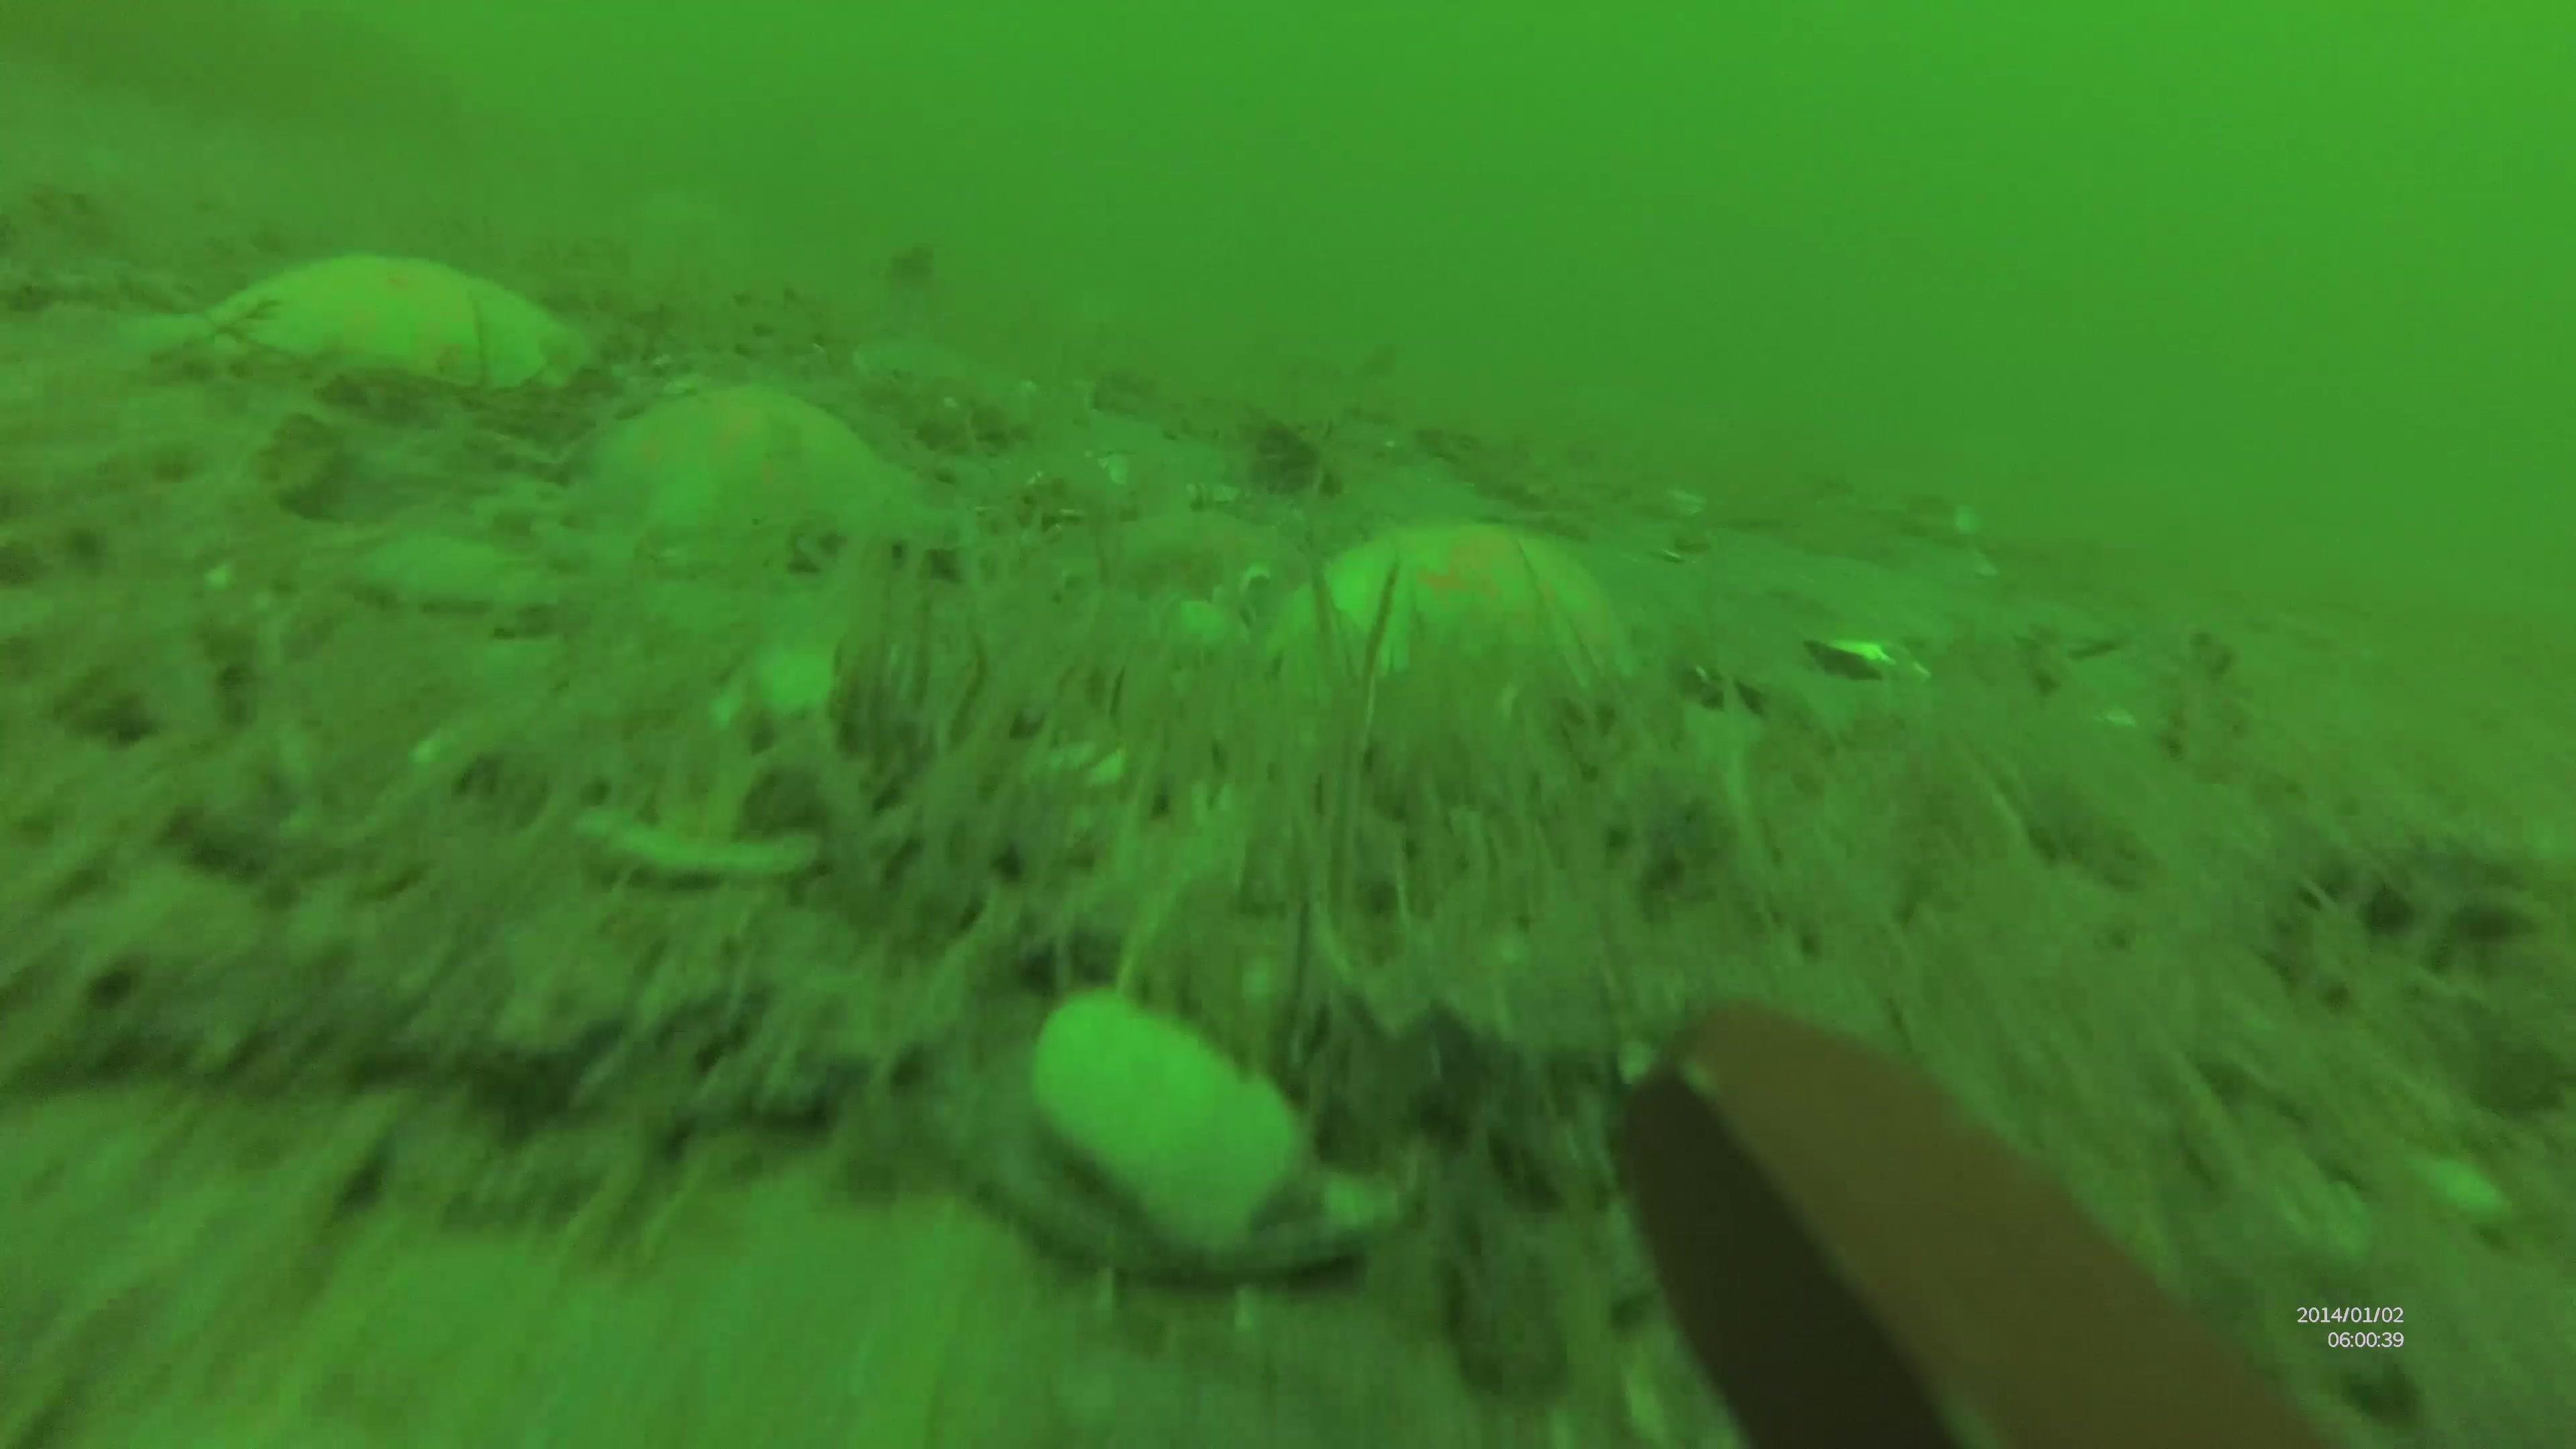starfish: (136, 244, 605, 400), (1260, 522, 1629, 694), (593, 396, 966, 538)
